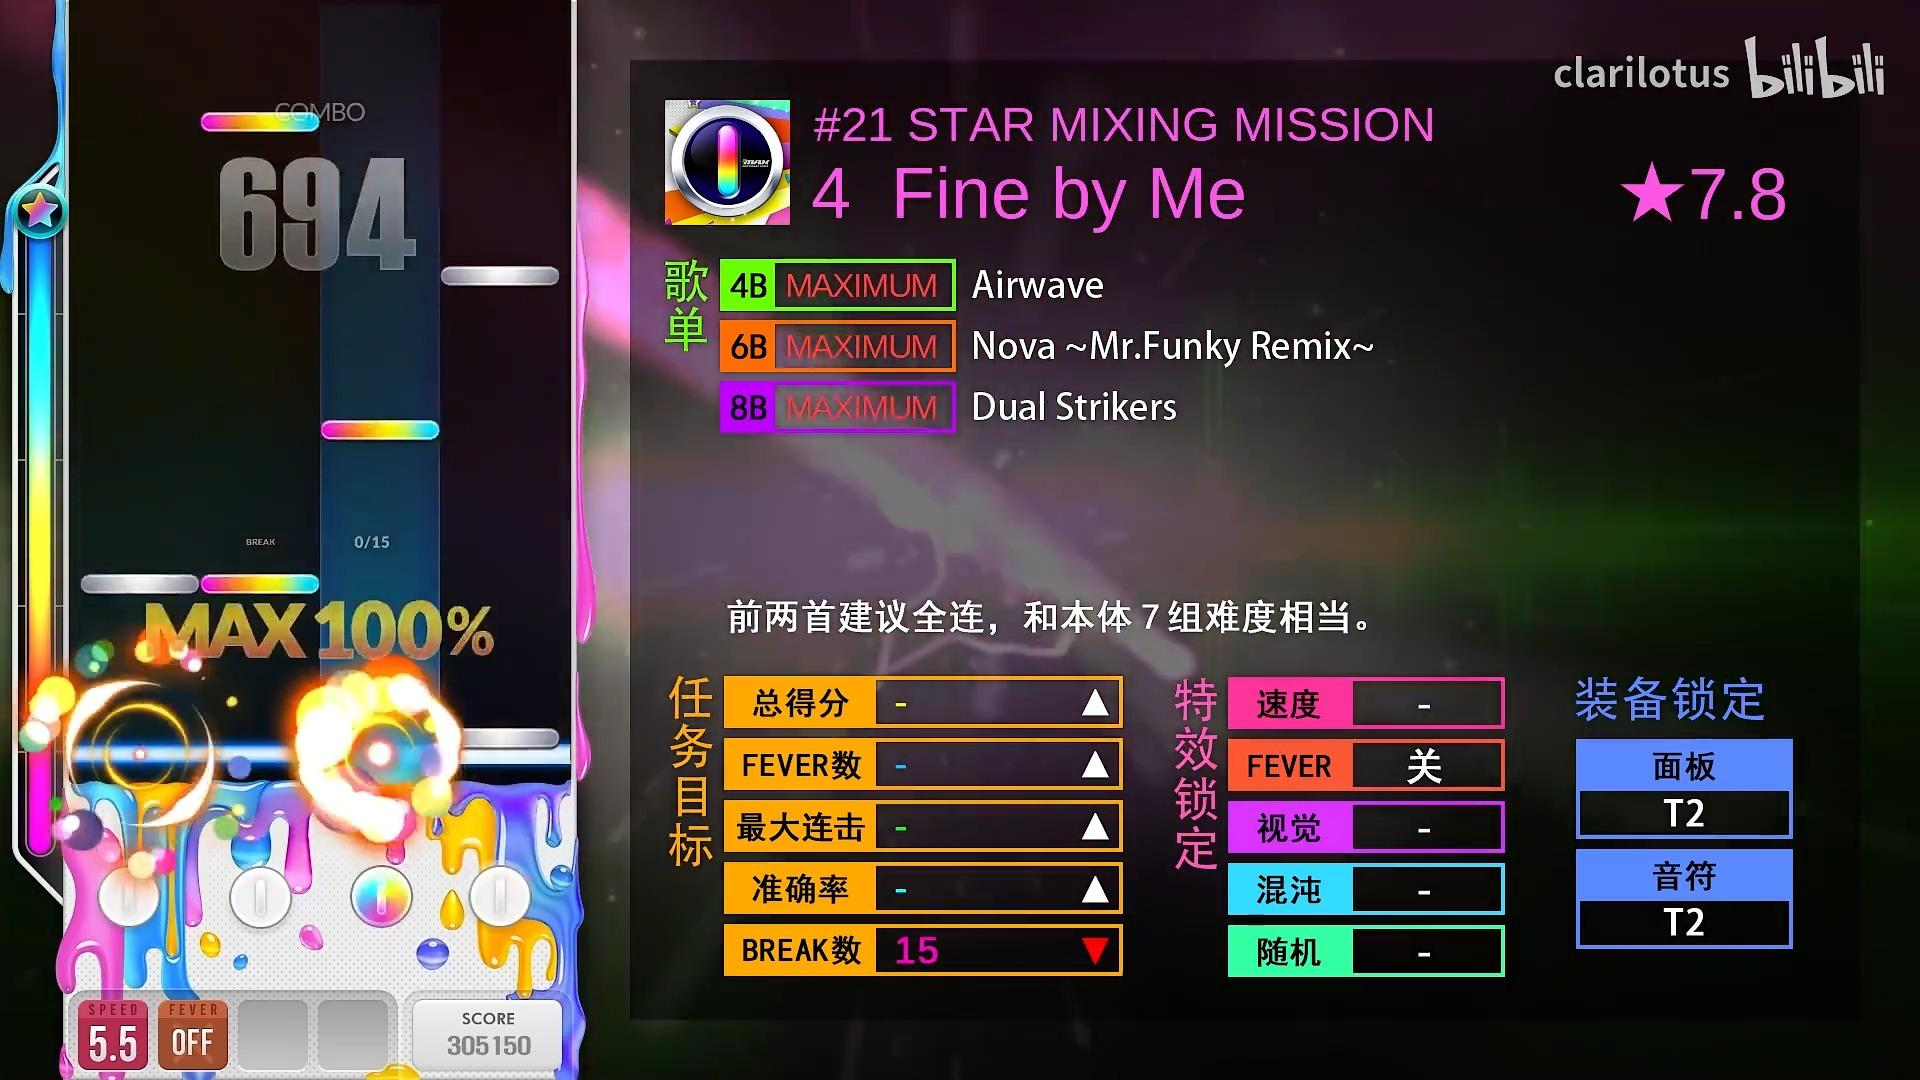note: (436, 727, 560, 750), (320, 419, 439, 442), (79, 574, 200, 595), (200, 574, 320, 595), (200, 112, 318, 133), (440, 266, 560, 286)
